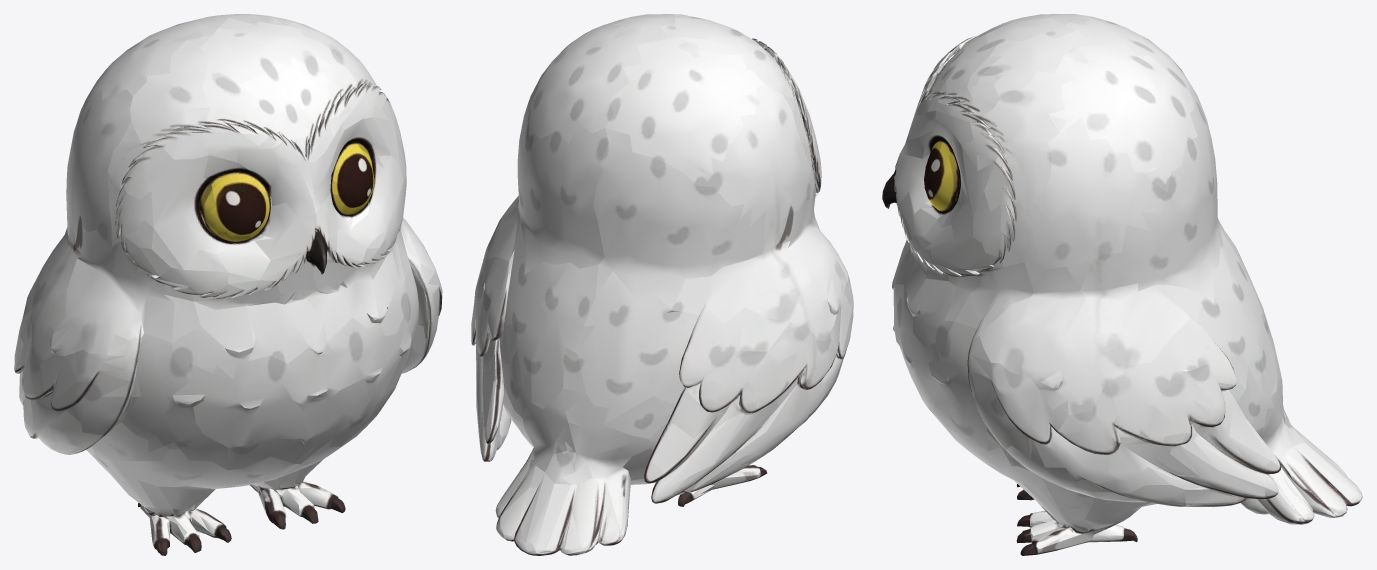
Rendered from pet_nilla.glb.
3 renders of one model, left to right at view 1: azimuth 30°, elevation 25°; view 2: azimuth 150°, elevation 25°; view 3: azimuth 270°, elevation 25°, orthographic. The views are drawn at different scales.
Bounding box in the file's own units: 1.54 × 1.9 × 1.72.
1 material, 1 textured.
